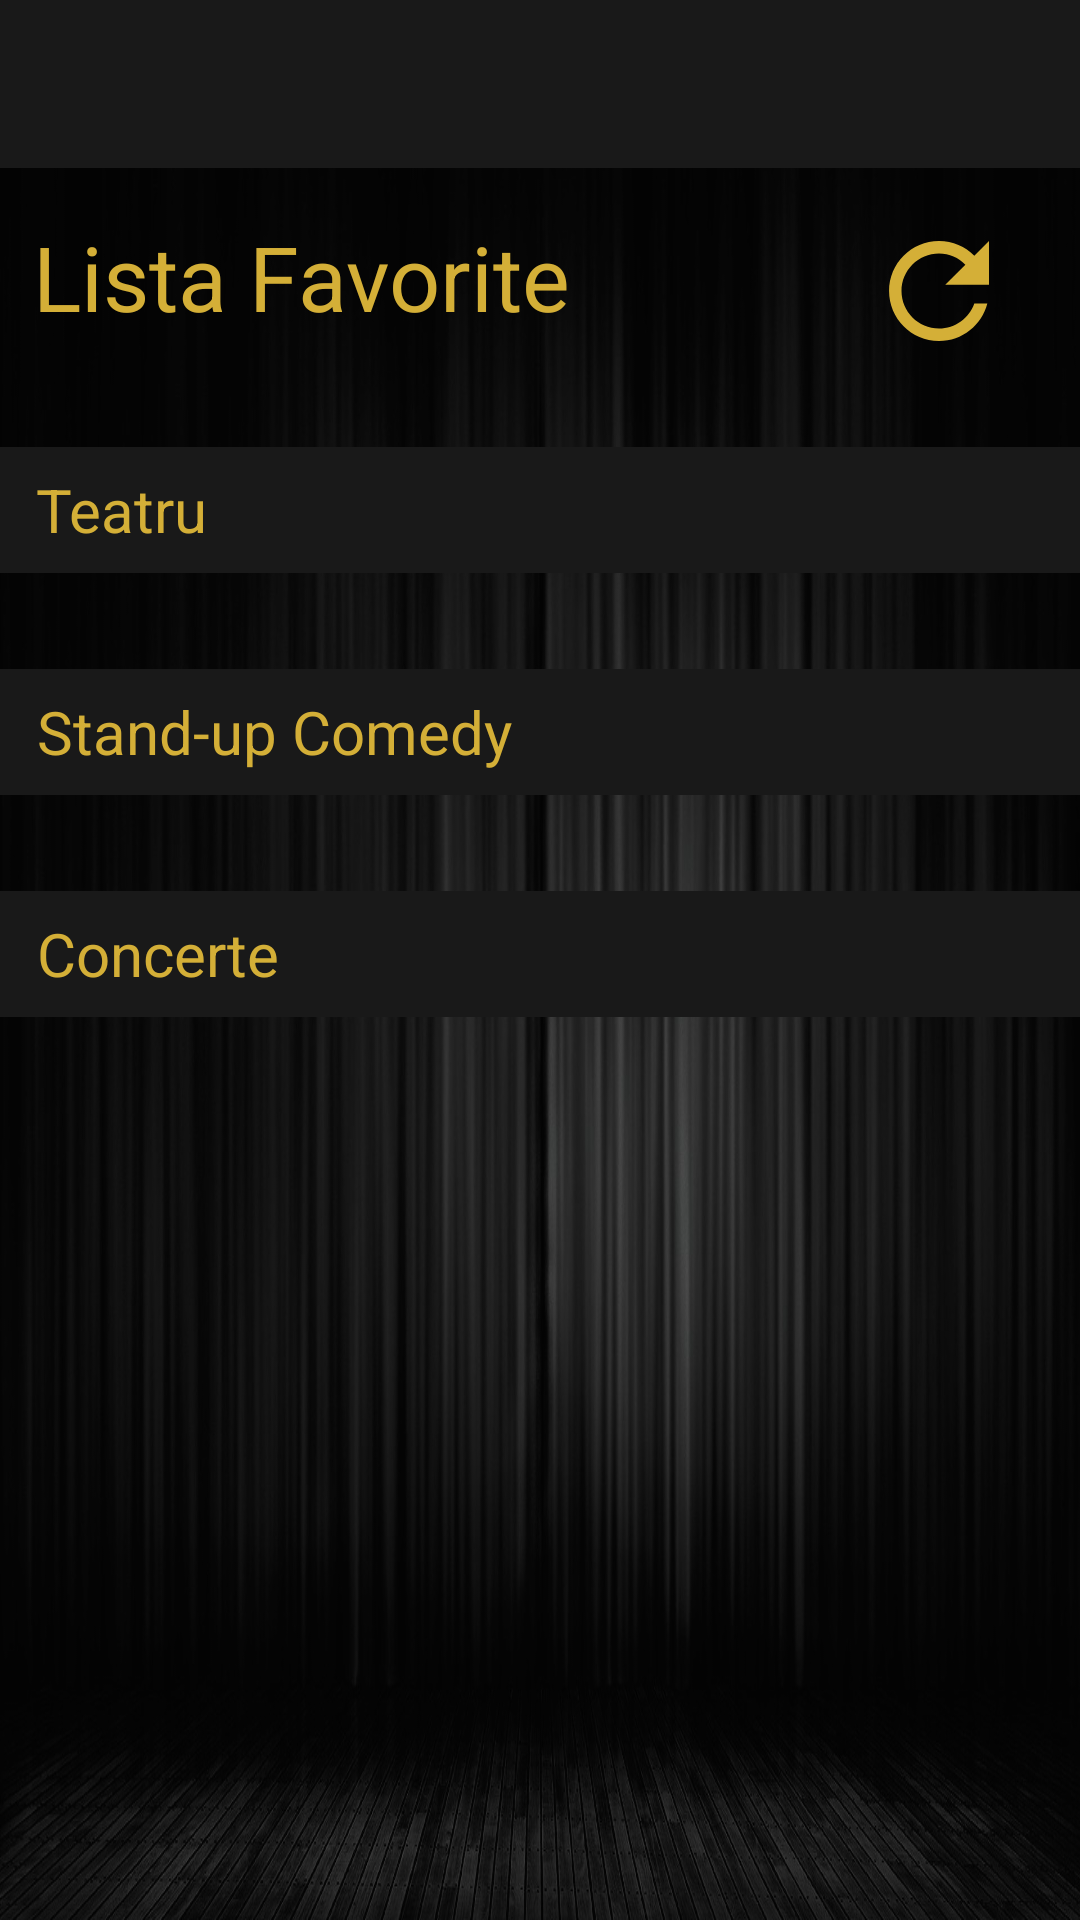

Named icons in this screenshot (1080 × 1920) and their bounding boxes, (x1, y1, x2, y2):
refresh: (889, 241, 989, 341)
